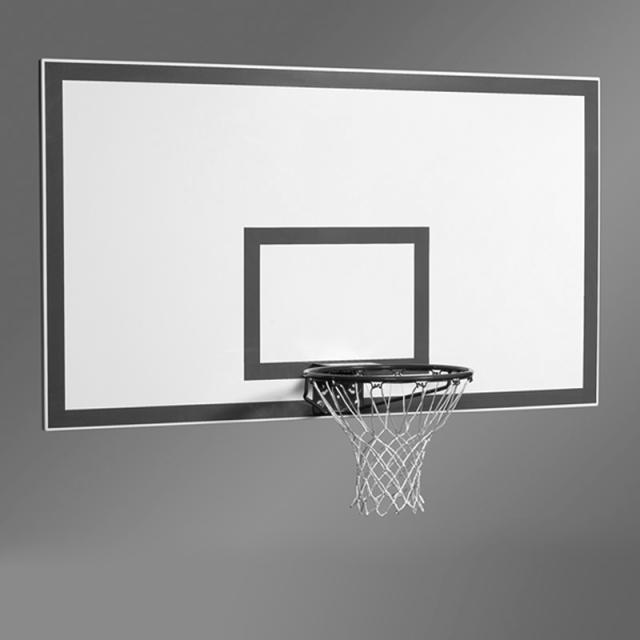backboard: (24, 37, 609, 444)
